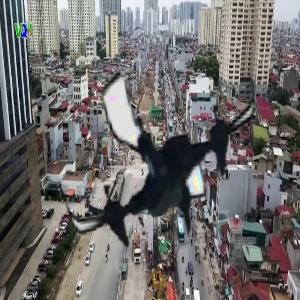drone: (55, 54, 267, 266)
